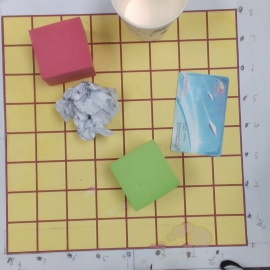card: (170, 71, 229, 159), (109, 1, 188, 38)
